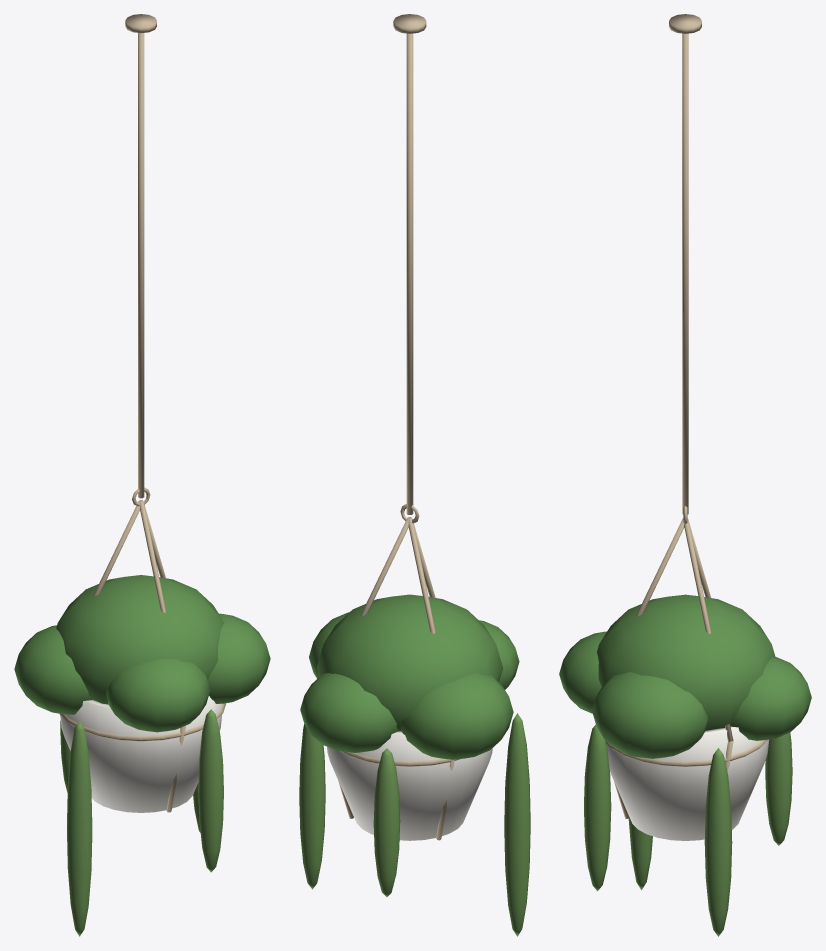
File: hangingPlant.glb
The picture shows the model from 3 angles, left to right: view 1: azimuth 30°, elevation 25°; view 2: azimuth 150°, elevation 25°; view 3: azimuth 270°, elevation 25°; orthographic projection. The views are drawn at different scales.
Visible parts, largest first — view 1: plant; view 2: plant, body; view 3: plant, body.
Boxes of the visible parts, x1,y1,x2,y2 form: plant: [14, 33, 270, 936]; plant: [299, 33, 530, 936]; body: [393, 14, 426, 33]; plant: [559, 33, 811, 936]; body: [669, 14, 701, 33].
Size of the model in its own units: 0.46 by 1.83 by 0.46.
